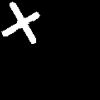single_crochet: (2, 2, 39, 43)
